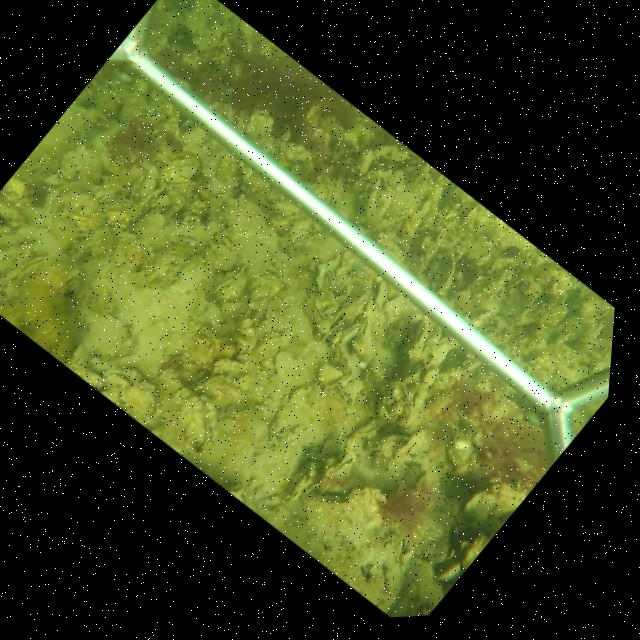Oyster-Closed: (321, 285, 370, 337), (392, 319, 429, 375), (211, 264, 246, 297), (419, 227, 449, 265), (431, 253, 455, 295), (99, 195, 138, 218), (377, 207, 412, 232), (353, 319, 375, 358), (253, 332, 283, 358), (337, 323, 362, 347), (221, 301, 245, 319), (309, 383, 322, 408), (324, 269, 335, 291)
Oyster-Indeterminate: (461, 482, 528, 523), (380, 379, 413, 421), (206, 236, 238, 272), (375, 280, 388, 304)
Oyster-Open: (102, 368, 135, 387)
